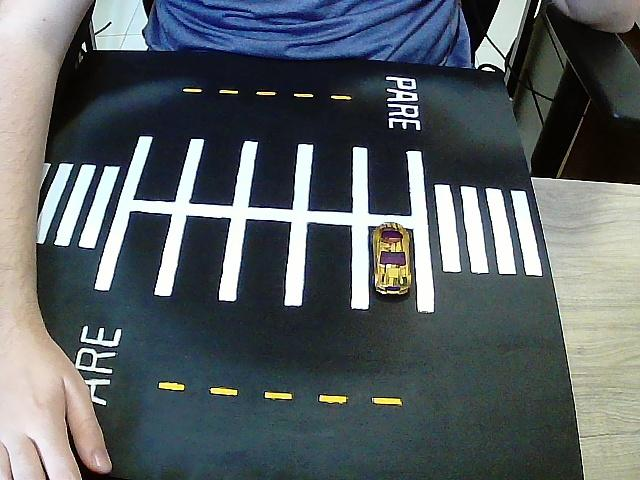Carro: (370, 223, 412, 301)
